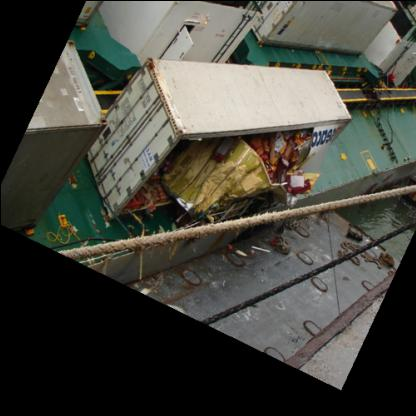Damage: (110, 100, 360, 218)
